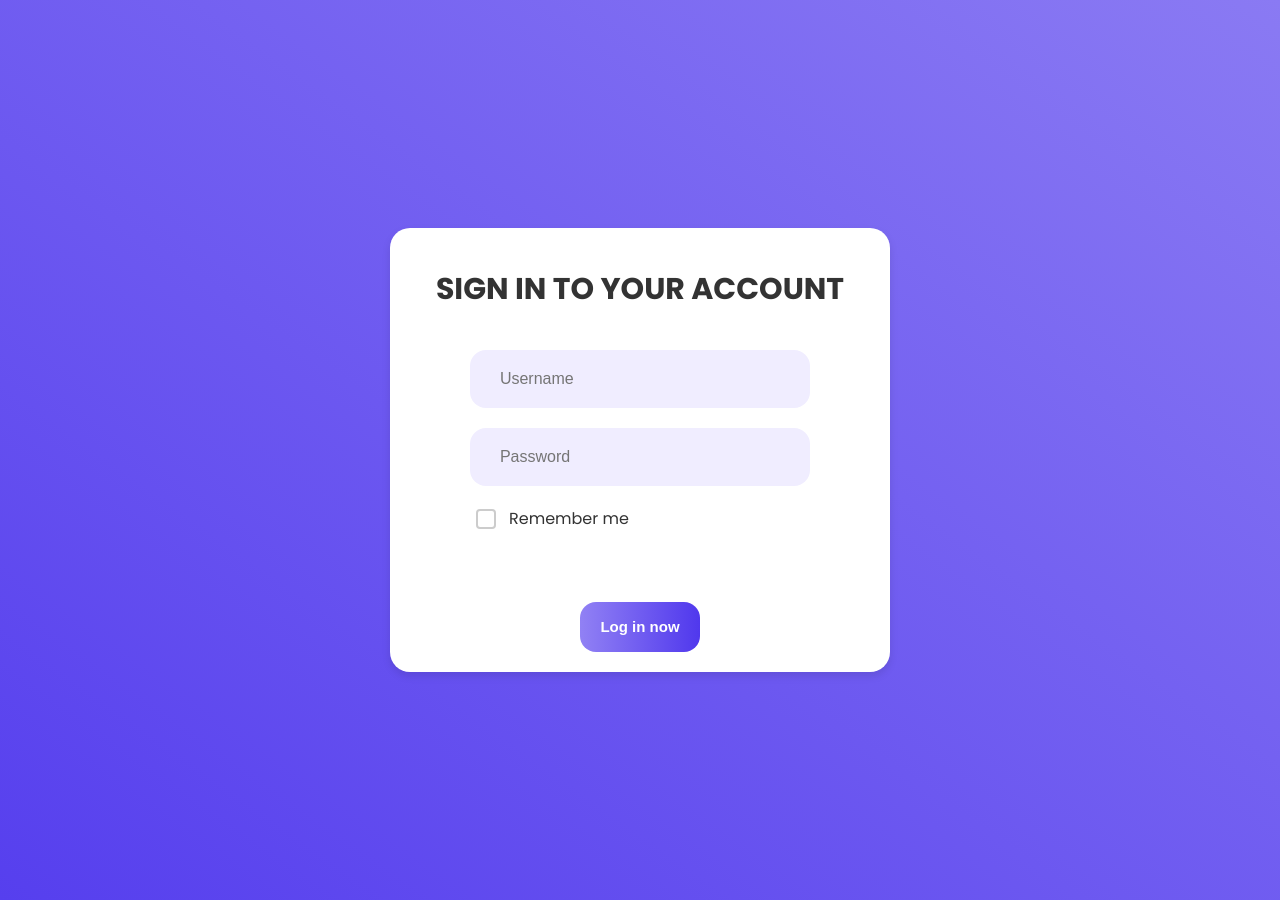
Scenario: LoginForm › displays an error for invalid email format
In the field with placeholder "Username": point(640, 379) left=470, top=350, right=810, bottom=408, type "invalid-email"
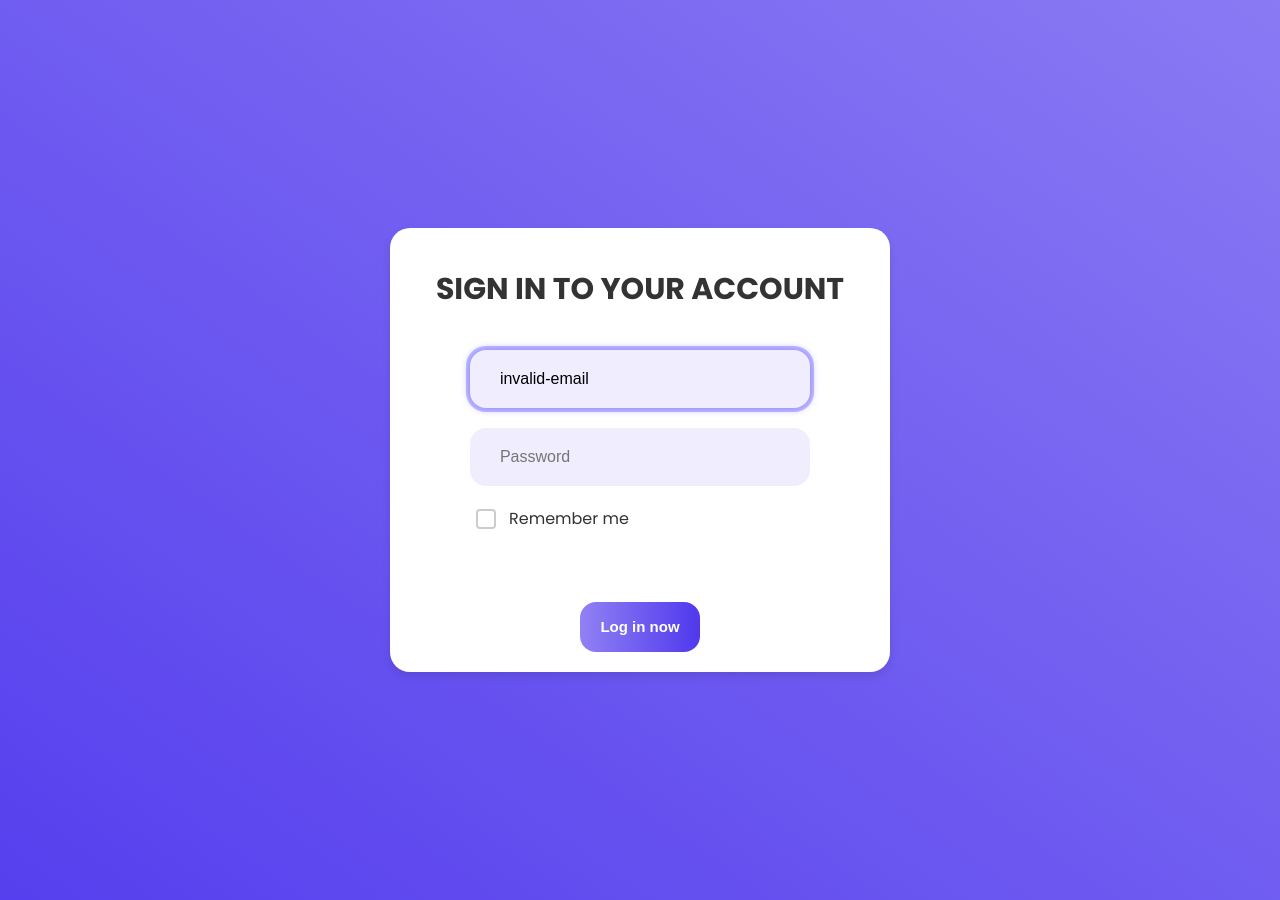
Click the button "Log in now": point(640, 627) left=580, top=602, right=700, bottom=652
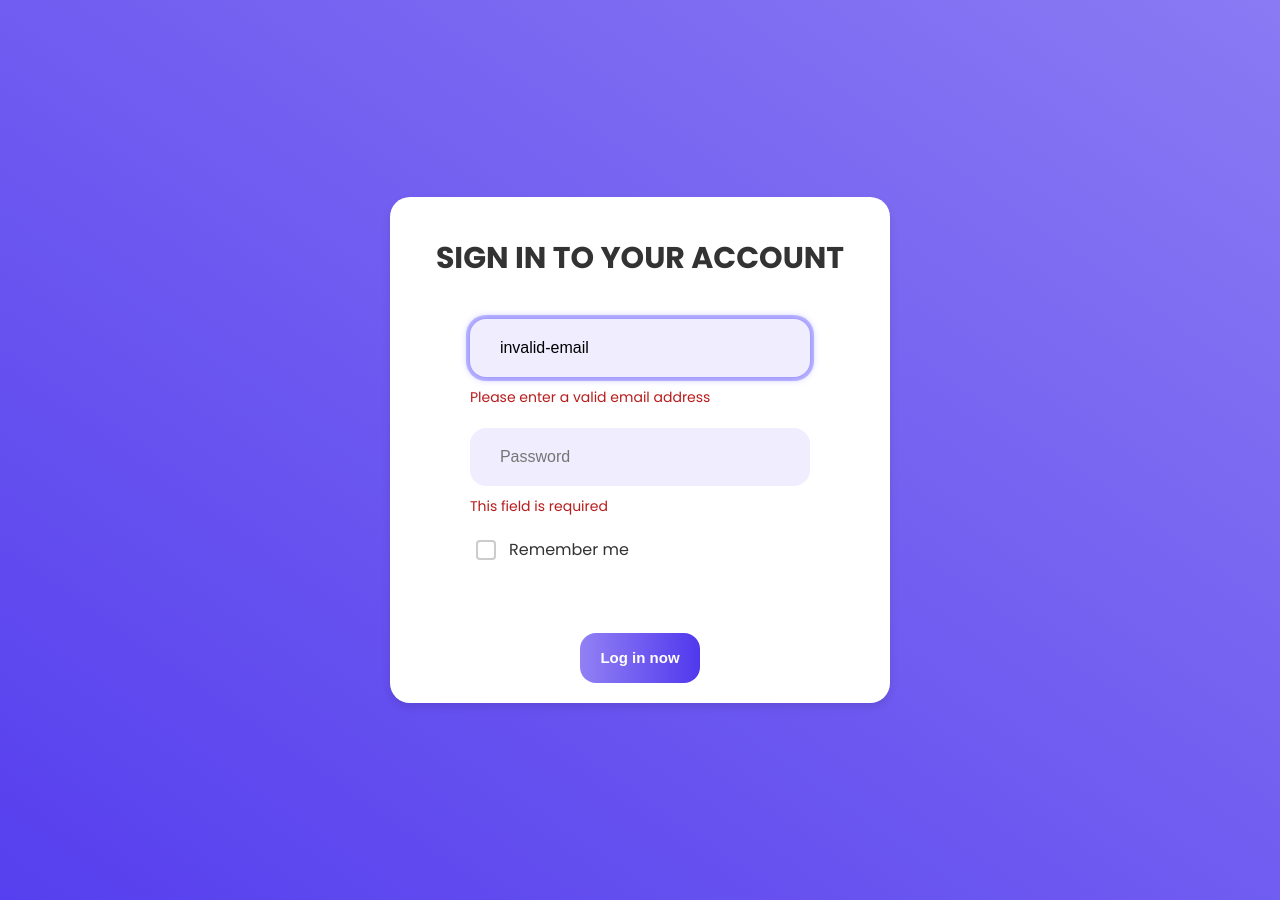
Now the text "Please enter a valid email address" is shown, box left=470, top=387, right=710, bottom=407
